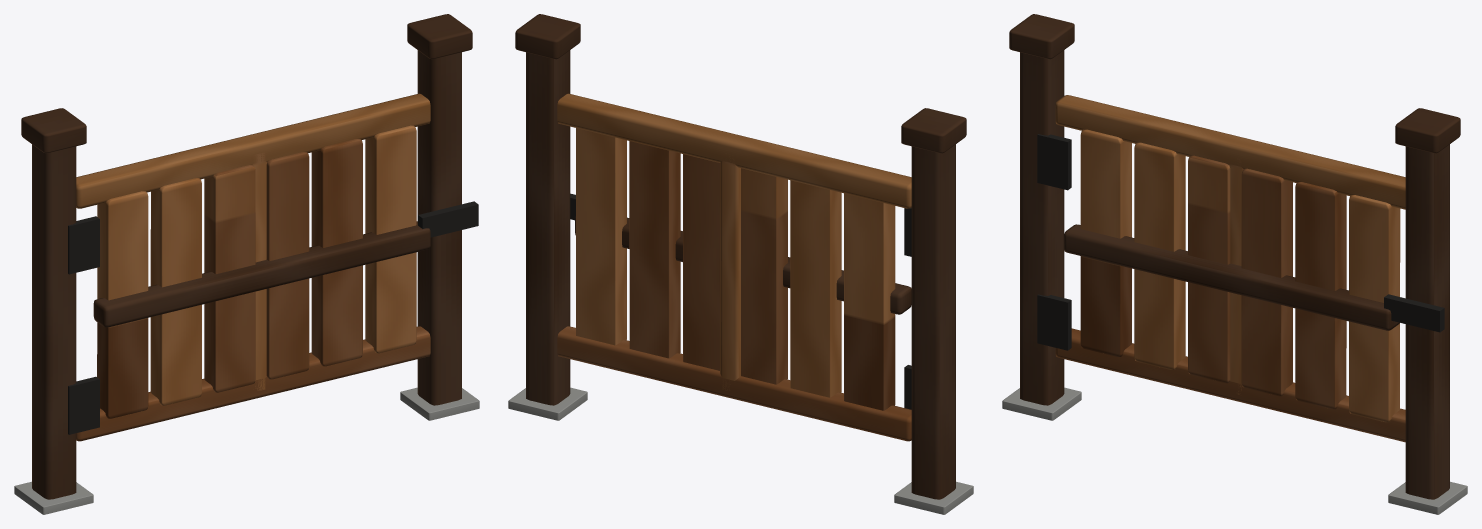
File: gate_single.glb
The picture shows the model from 3 angles, left to right: view 1: azimuth 30°, elevation 25°; view 2: azimuth 150°, elevation 25°; view 3: azimuth 330°, elevation 25°; orthographic projection.
Parts seen in each view (by area): view 1: Gate_Post_Left_Post, Gate_Post_Right_Post, Gate_Leaf_Left_Top, Gate_Leaf_Left_Board.005, Gate_Leaf_Left_Board.002, Gate_Leaf_Left_Board.004, Gate_Leaf_Left_Board.001, Gate_Leaf_Left_Board, Gate_Leaf_Left_ZBrace, Gate_Leaf_Left_Board.003, Gate_Leaf_Left_Bottom, Gate_Leaf_Left_Frame (+7 smaller); view 2: Gate_Post_Left_Post, Gate_Post_Right_Post, Gate_Leaf_Left_Top, Gate_Leaf_Left_Board.004, Gate_Leaf_Left_Board.001, Gate_Leaf_Left_Board, Gate_Leaf_Left_Board.005, Gate_Leaf_Left_Board.002, Gate_Leaf_Left_Bottom, Gate_Leaf_Left_Board.003, Gate_Leaf_Left_Frame, Gate_Post_Left_Cap (+4 smaller); view 3: Gate_Post_Right_Post, Gate_Post_Left_Post, Gate_Leaf_Left_Top, Gate_Leaf_Left_Board.003, Gate_Leaf_Left_Board, Gate_Leaf_Left_Board.004, Gate_Leaf_Left_Board.001, Gate_Leaf_Left_Board.005, Gate_Leaf_Left_ZBrace, Gate_Leaf_Left_Board.002, Gate_Leaf_Left_Bottom, Gate_Leaf_Left_Frame (+7 smaller).
Part boxes in pixels (left/top/right/bottom): Gate_Post_Left_Post: left=32, top=144, right=76, bottom=499; Gate_Post_Right_Post: left=417, top=50, right=461, bottom=405; Gate_Leaf_Left_Top: left=76, top=93, right=430, bottom=208; Gate_Leaf_Left_Board.005: left=365, top=125, right=416, bottom=353; Gate_Leaf_Left_Board.002: left=204, top=165, right=255, bottom=392; Gate_Leaf_Left_Board.004: left=311, top=139, right=362, bottom=366; Gate_Leaf_Left_Board.001: left=150, top=178, right=201, bottom=405; Gate_Leaf_Left_Board: left=97, top=191, right=148, bottom=418; Gate_Leaf_Left_ZBrace: left=93, top=221, right=430, bottom=327; Gate_Leaf_Left_Board.003: left=266, top=152, right=309, bottom=379; Gate_Leaf_Left_Bottom: left=76, top=326, right=430, bottom=441; Gate_Leaf_Left_Frame: left=252, top=152, right=267, bottom=390; Gate_Post_Left_Post: left=911, top=144, right=955, bottom=499; Gate_Post_Right_Post: left=526, top=50, right=570, bottom=405; Gate_Leaf_Left_Top: left=557, top=93, right=911, bottom=208; Gate_Leaf_Left_Board.004: left=629, top=141, right=680, bottom=358; Gate_Leaf_Left_Board.001: left=790, top=180, right=841, bottom=397; Gate_Leaf_Left_Board: left=844, top=193, right=895, bottom=410; Gate_Leaf_Left_Board.005: left=576, top=128, right=626, bottom=345; Gate_Leaf_Left_Board.002: left=741, top=168, right=787, bottom=384; Gate_Leaf_Left_Bottom: left=557, top=326, right=911, bottom=441; Gate_Leaf_Left_Board.003: left=683, top=154, right=719, bottom=370; Gate_Leaf_Left_Frame: left=720, top=152, right=740, bottom=390; Gate_Post_Left_Cap: left=901, top=108, right=966, bottom=153; Gate_Post_Right_Post: left=1405, top=144, right=1449, bottom=499; Gate_Post_Left_Post: left=1020, top=50, right=1064, bottom=405; Gate_Leaf_Left_Top: left=1055, top=95, right=1405, bottom=209; Gate_Leaf_Left_Board.003: left=1241, top=168, right=1292, bottom=396; Gate_Leaf_Left_Board: left=1080, top=129, right=1131, bottom=356; Gate_Leaf_Left_Board.004: left=1295, top=182, right=1346, bottom=409; Gate_Leaf_Left_Board.001: left=1134, top=142, right=1185, bottom=369; Gate_Leaf_Left_Board.005: left=1349, top=195, right=1400, bottom=422; Gate_Leaf_Left_ZBrace: left=1064, top=224, right=1399, bottom=330; Gate_Leaf_Left_Board.002: left=1188, top=155, right=1230, bottom=383; Gate_Leaf_Left_Bottom: left=1055, top=328, right=1405, bottom=442; Gate_Leaf_Left_Frame: left=1228, top=158, right=1243, bottom=394.
Size of the model in its own units: 1.71 by 1.41 by 0.2035.
Materials: 4 (4 with a texture image).
